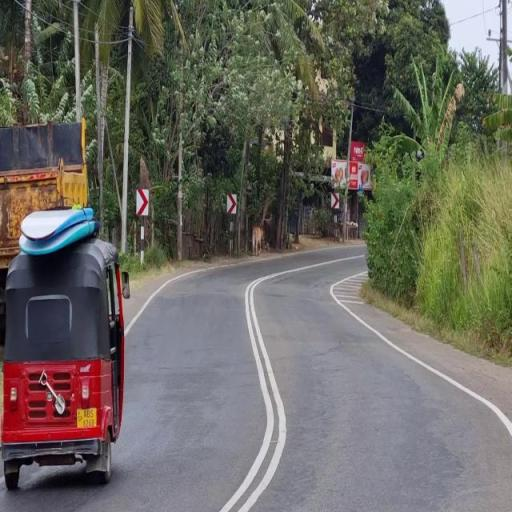double_white_line: (231, 270, 292, 510)
